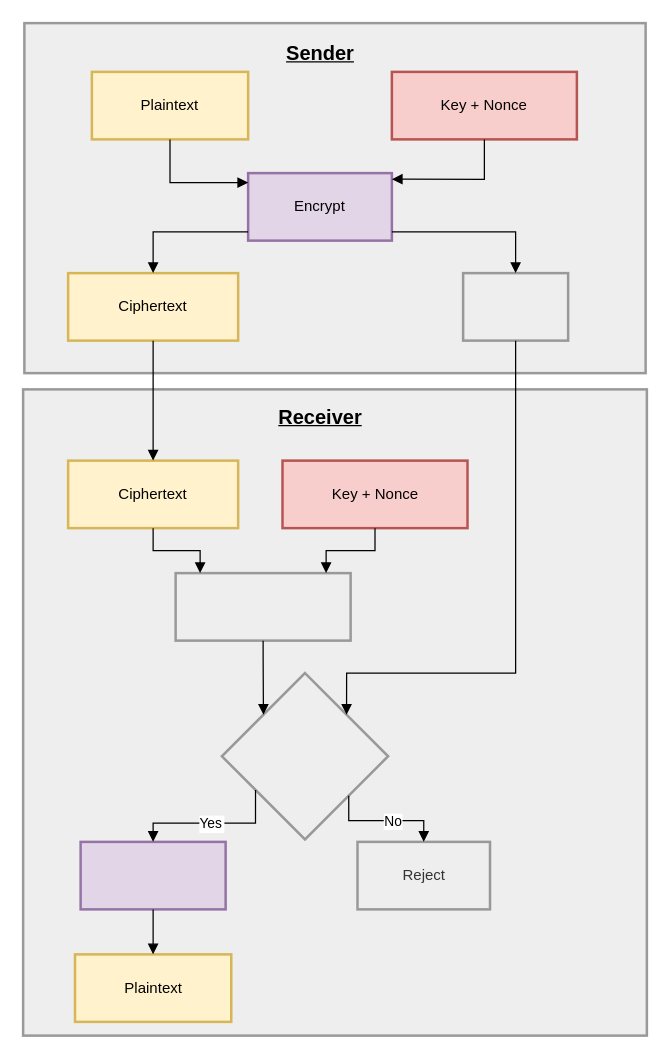
This 669x1058 diagram has some shape labels left out. The shapes that lost their labels are listed below. From the top down, each one's centre as x and y in pixels, then its label:
At point (515, 306): "Tag".
At point (262, 606): "Recompute".
At point (304, 755): "Tag match?".
At point (152, 875): "Decrypt".
